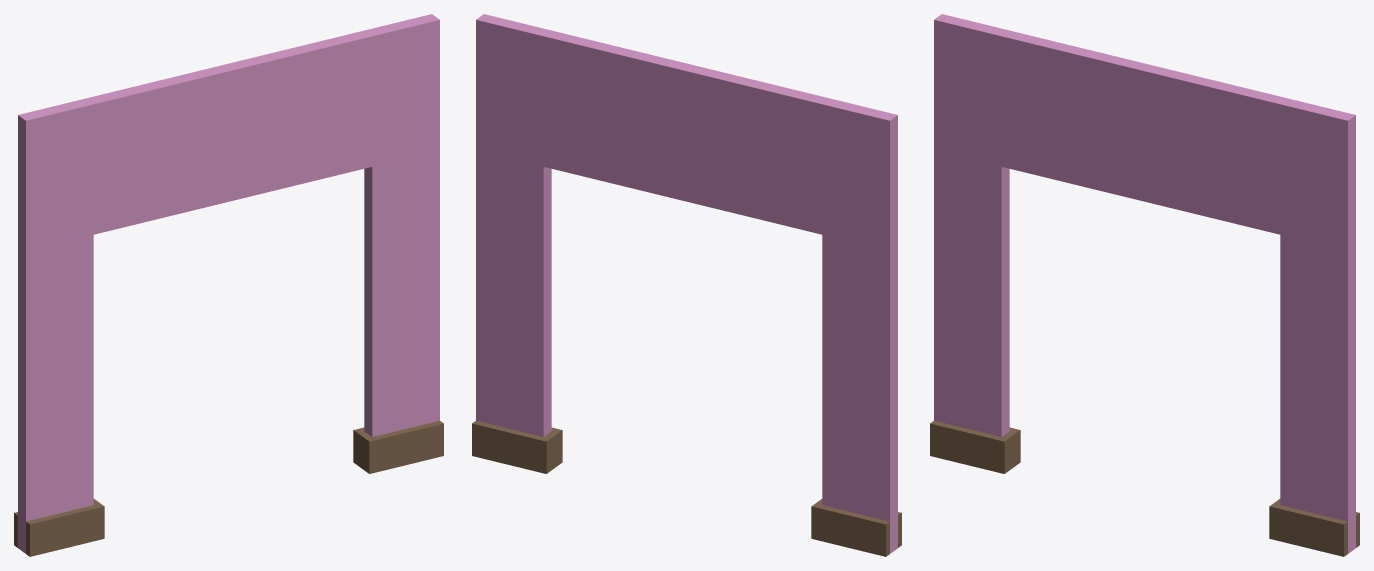
File: Mesh_WallBaseboard_G5.fbx
The picture shows the model from 3 angles, left to right: view 1: azimuth 30°, elevation 25°; view 2: azimuth 150°, elevation 25°; view 3: azimuth 330°, elevation 25°; orthographic projection.
Visible parts, largest first — view 1: Mesh_WallBaseboard_G5; view 2: Mesh_WallBaseboard_G5; view 3: Mesh_WallBaseboard_G5.
Part boxes in pixels (x1=…): Mesh_WallBaseboard_G5: x1=14, y1=14, x2=443, y2=556; Mesh_WallBaseboard_G5: x1=472, y1=14, x2=901, y2=556; Mesh_WallBaseboard_G5: x1=930, y1=14, x2=1359, y2=556.
Size of the model in its own units: 3 by 3 by 0.2.
